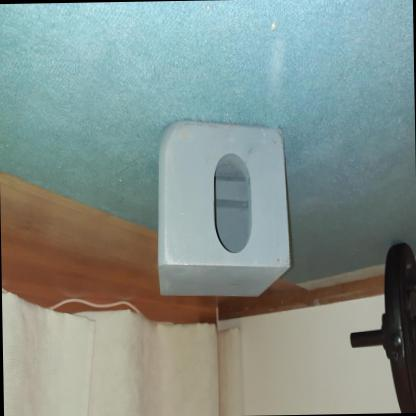CornerCasting: (155, 116, 292, 303)
